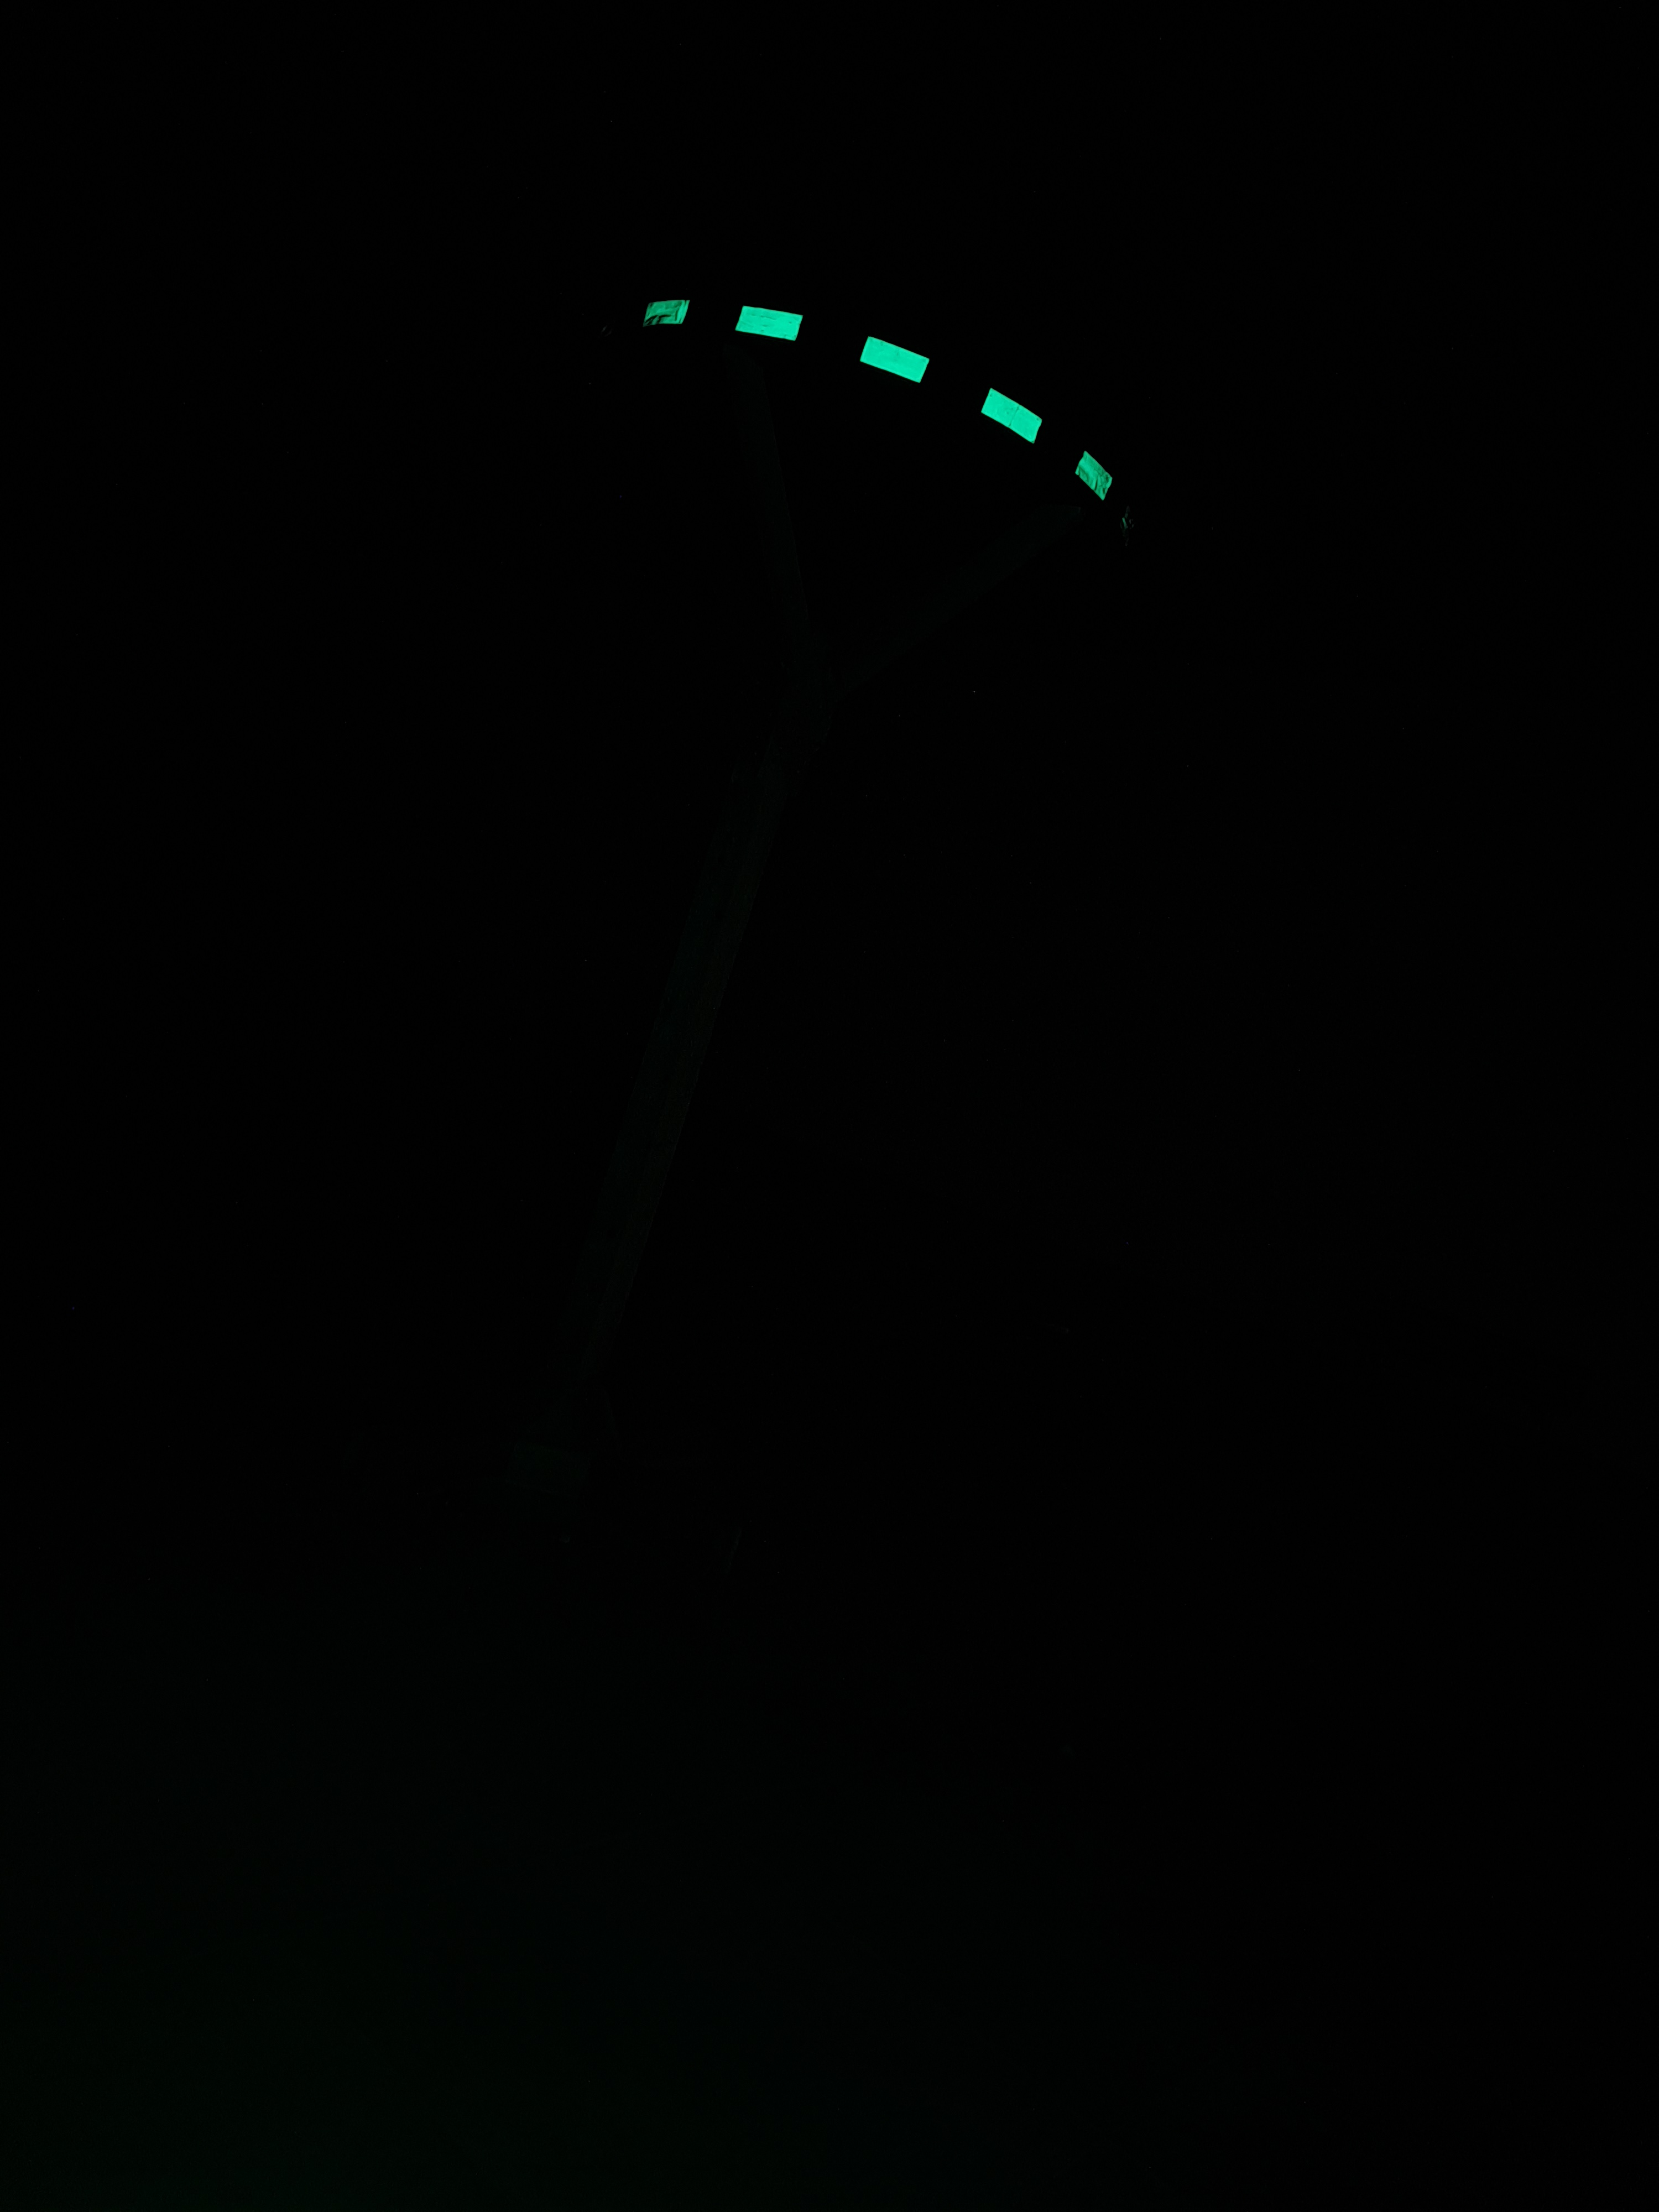hoop: (643, 291, 1119, 503)
